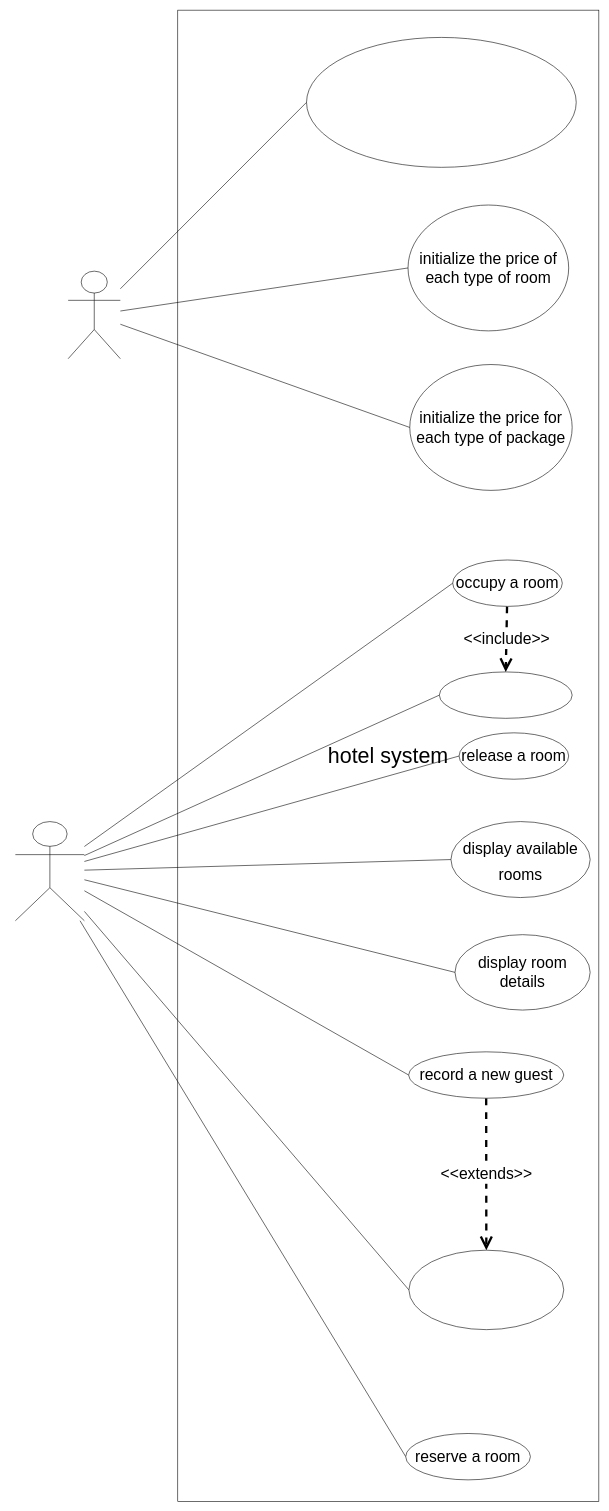
The diagram is 609 pixels wide and 1511 high, and some of its shapes have lost their labels. Here are the shapes that lost their labels. From the top down, the box of each, then its label:
(306, 37, 576, 167): initialize number of hotel rooms and their type and view
(68, 271, 120, 359): admin
(439, 671, 572, 718): display receipt
(15, 821, 84, 921): receptionist
(408, 1250, 564, 1330): display recorded guests
